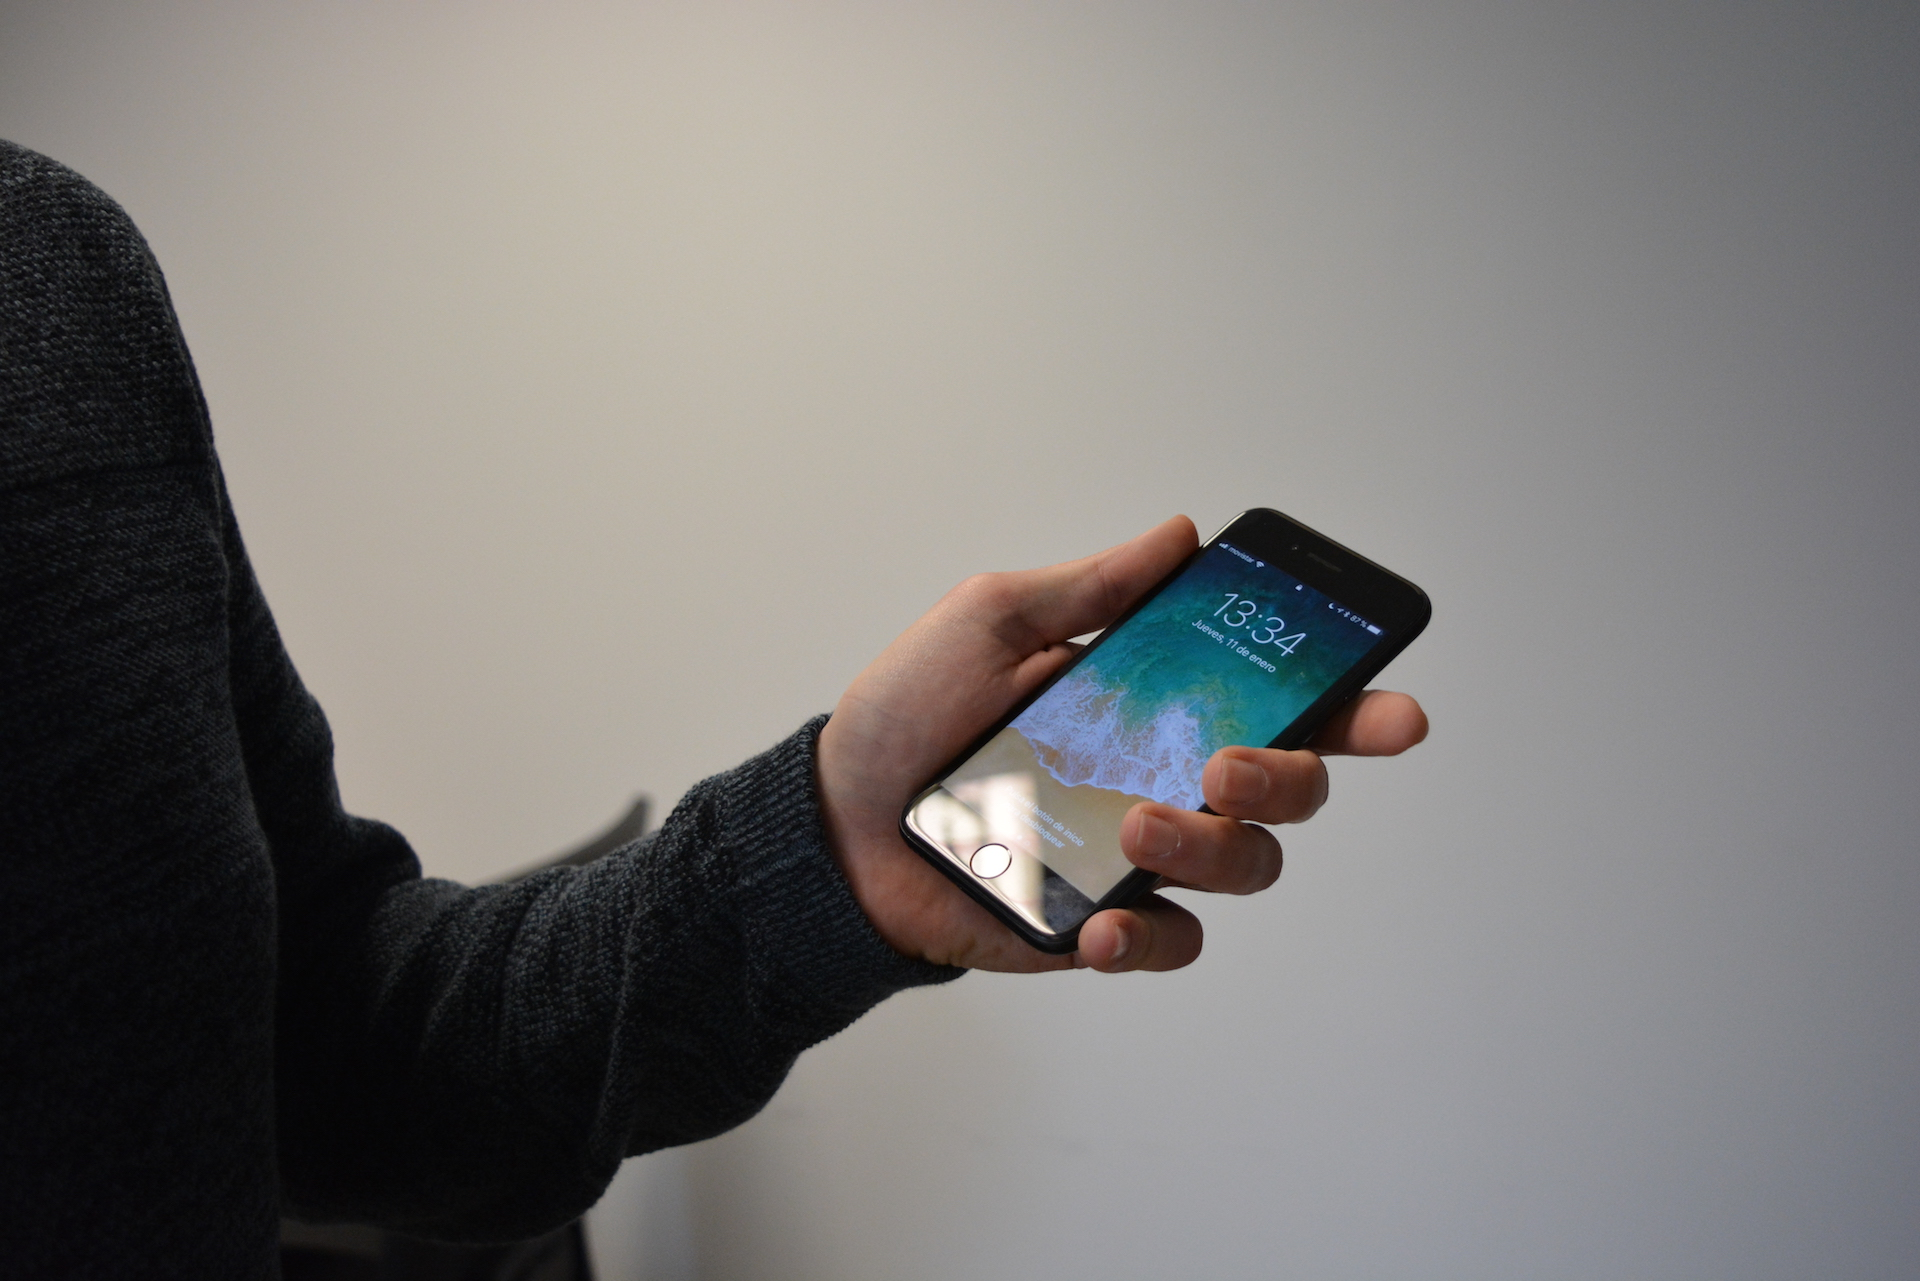smartphone: (895, 506, 1432, 958)
